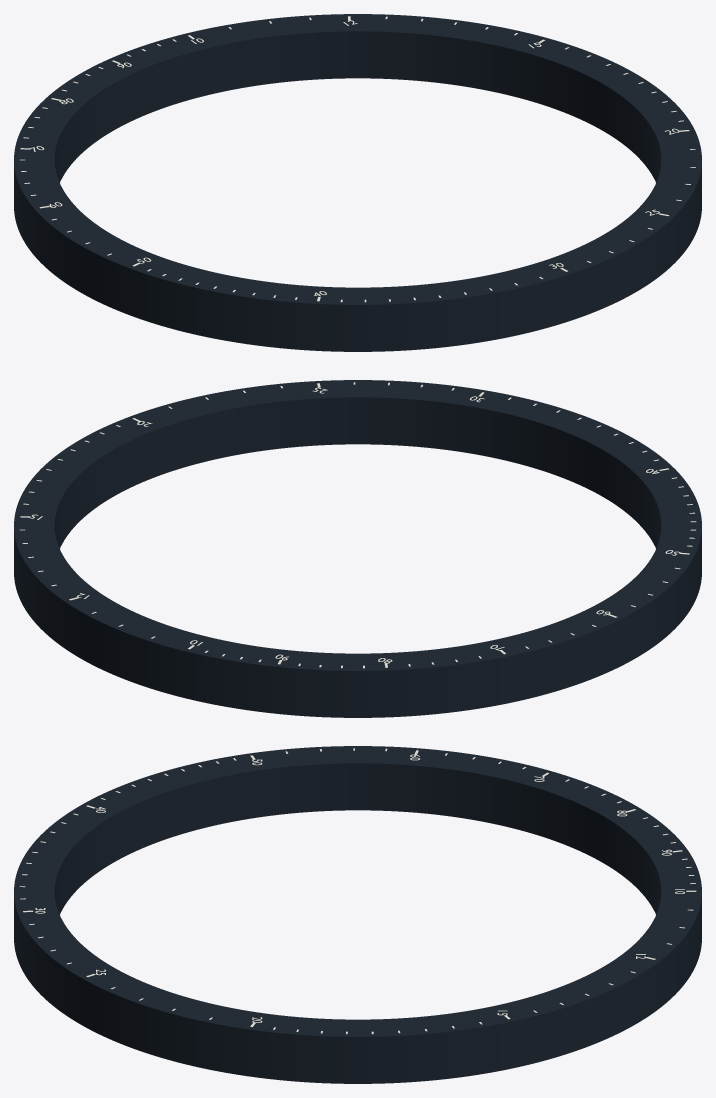
The model's file is chapter-ring-pilot.glb.
3 views of the same model, one above another, from view 1: azimuth 30°, elevation 25°; view 2: azimuth 150°, elevation 25°; view 3: azimuth 270°, elevation 25° (orthographic).
Visible parts, largest first — view 1: DD_ARCH_CHAPTER_RING, DD_SCALE_SURFACE_INNER; view 2: DD_ARCH_CHAPTER_RING, DD_SCALE_SURFACE_INNER; view 3: DD_ARCH_CHAPTER_RING, DD_SCALE_SURFACE_INNER.
Part boxes in pixels (left/top/right/bottom): DD_ARCH_CHAPTER_RING: left=14, top=31, right=701, bottom=351; DD_SCALE_SURFACE_INNER: left=14, top=14, right=701, bottom=304; DD_ARCH_CHAPTER_RING: left=14, top=397, right=701, bottom=717; DD_SCALE_SURFACE_INNER: left=14, top=380, right=701, bottom=670; DD_ARCH_CHAPTER_RING: left=14, top=763, right=701, bottom=1083; DD_SCALE_SURFACE_INNER: left=14, top=746, right=701, bottom=1036.
Bounding box in the file's own units: 30.5 × 2.32 × 30.5.
